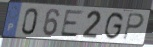0: (20, 6, 40, 36)
2: (81, 10, 103, 41)
6: (41, 8, 61, 37)
E: (59, 10, 85, 38)
G: (103, 11, 125, 41)
P: (122, 12, 145, 42)
